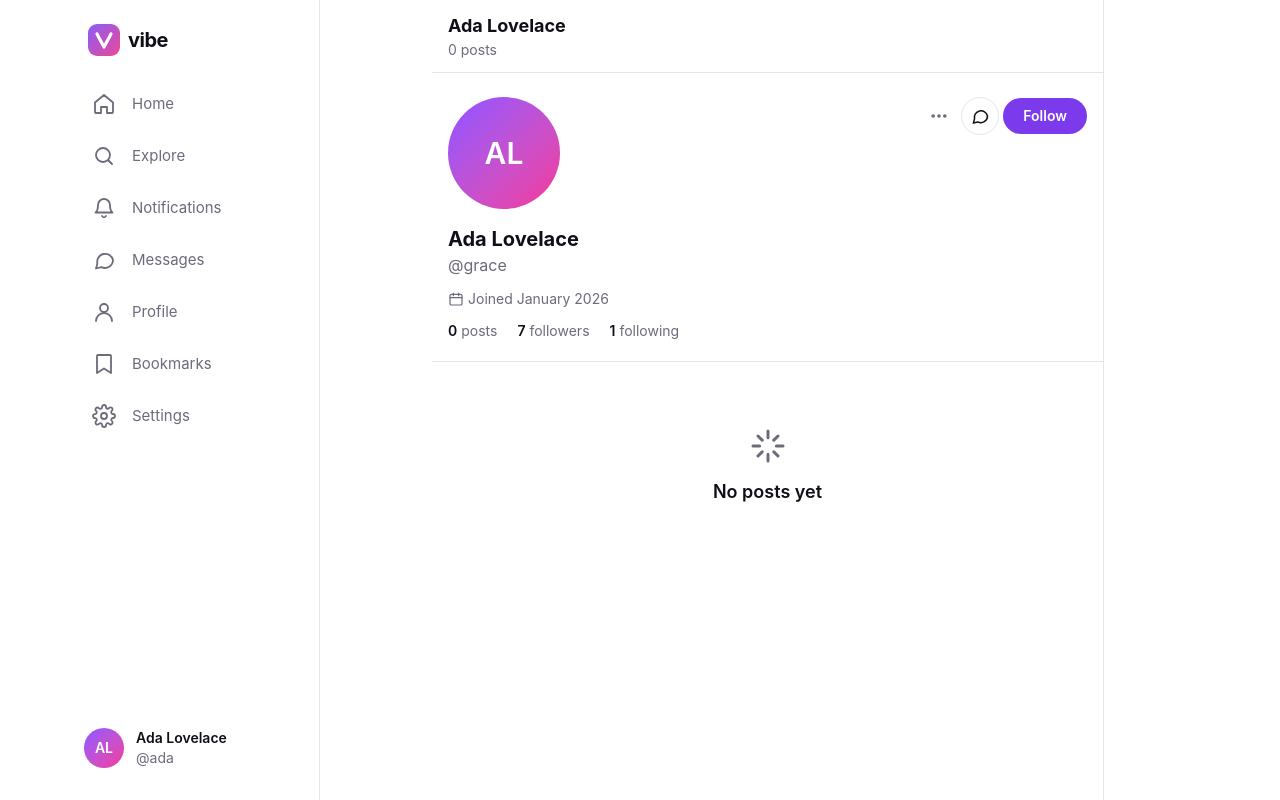
Test case: following from a profile › follows a public account and updates the follower count immediately
The image size is (1280, 800).
Click the button "Follow". click: point(1045, 116)
box: [1003,98,1087,134]
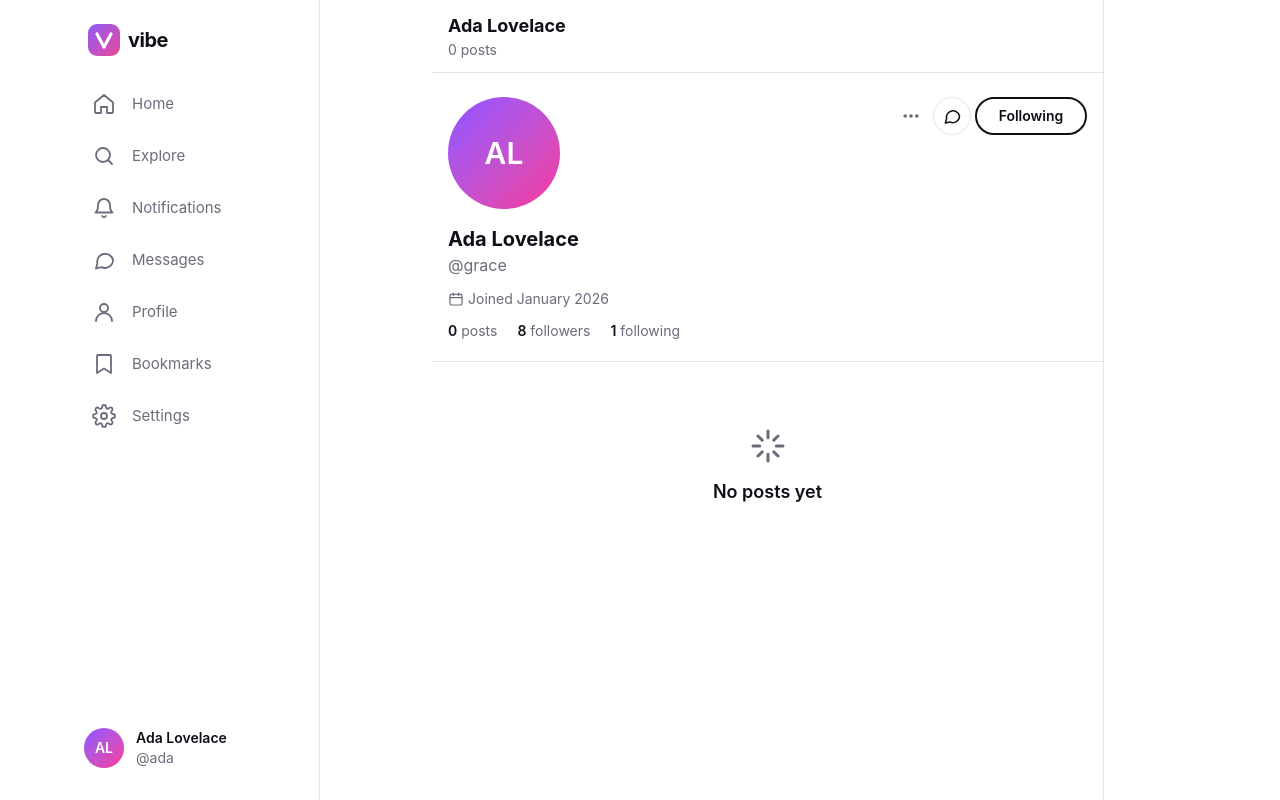
Now the button with aria-label "Unfollow" reads "Following", box [975,97,1087,135]
Now the link "8 followers" is shown, box [517,321,590,341]
